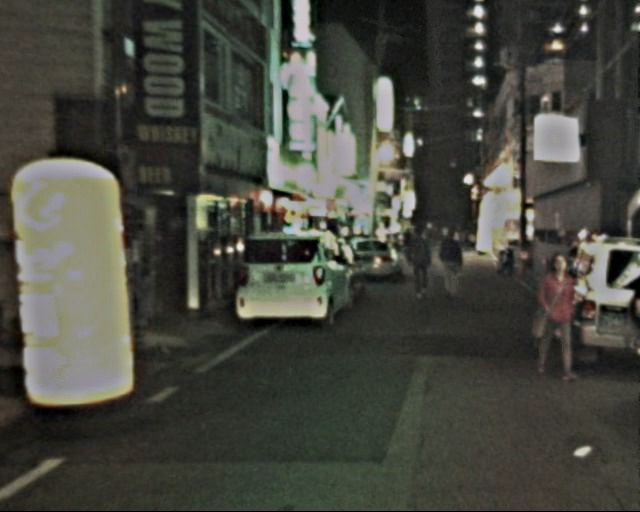person: (528, 253, 582, 381), (405, 224, 441, 301), (435, 228, 469, 301)
